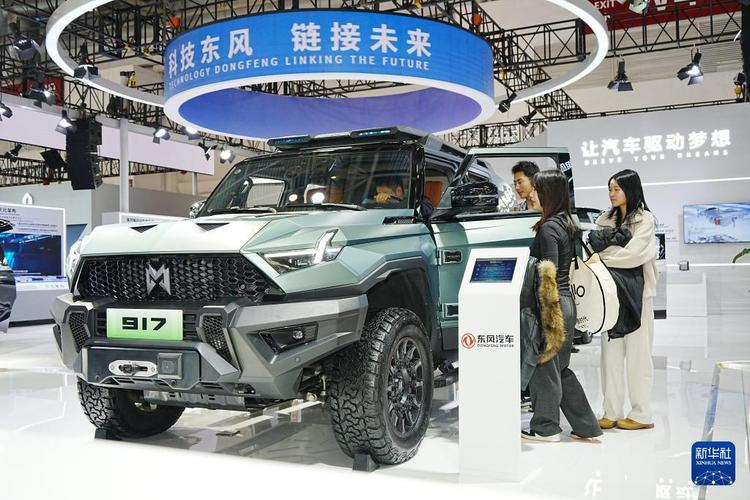汽车: (63, 135, 502, 465)
